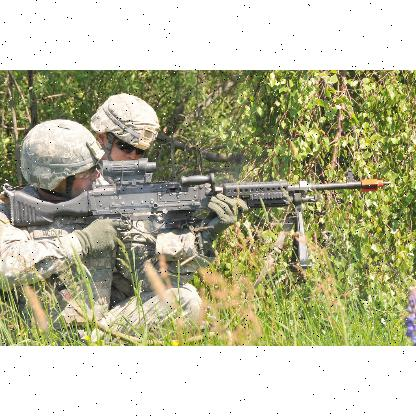gun: (27, 165, 415, 259)
